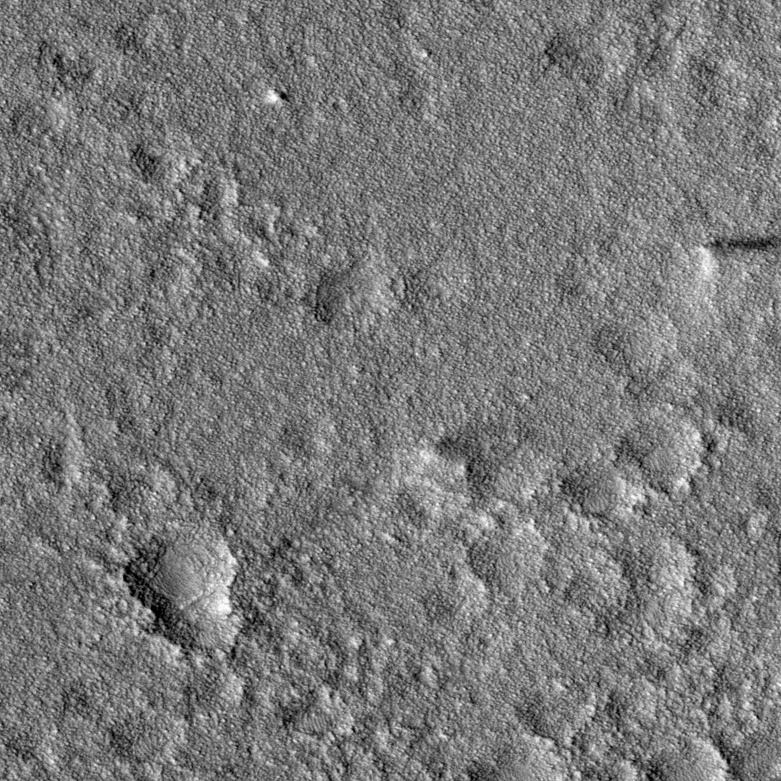dust_devil: (688, 234, 781, 282)
